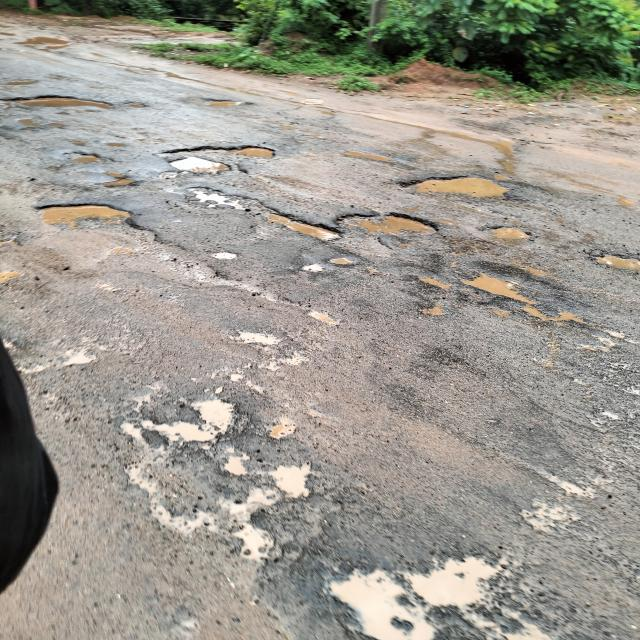pothole: (119, 394, 314, 574), (322, 552, 572, 640), (413, 268, 594, 347), (263, 195, 444, 274), (146, 138, 285, 214), (519, 461, 616, 545), (0, 72, 116, 141), (396, 164, 533, 216), (36, 199, 158, 249), (227, 324, 307, 378), (21, 330, 119, 371), (195, 239, 259, 298), (70, 150, 147, 193), (582, 235, 640, 286), (0, 219, 25, 314), (482, 217, 540, 251), (197, 88, 259, 116), (300, 294, 348, 329), (345, 147, 404, 173)
